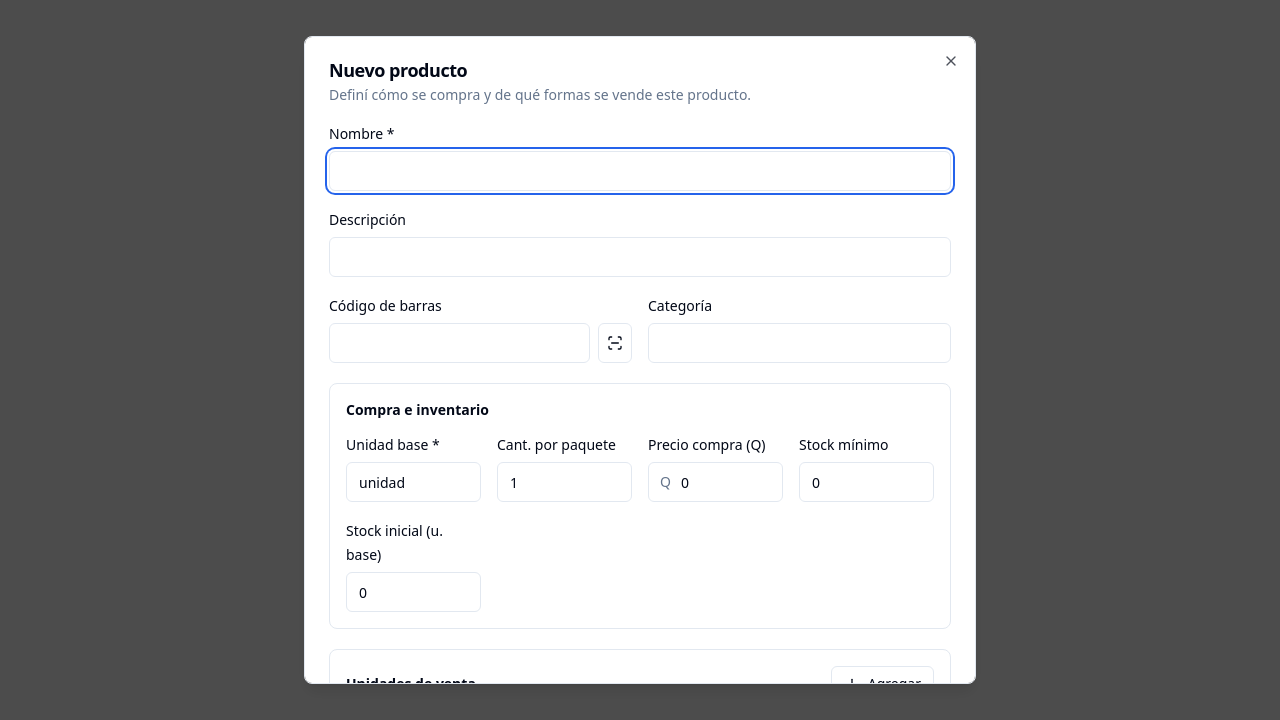
<ProductFormModal /> › BUG-035: a negative initial stock shows a message and is not saved
In the field labelled "Nombre *": (640, 171) x1=329 y1=151 x2=951 y2=191, type "Producto QA"
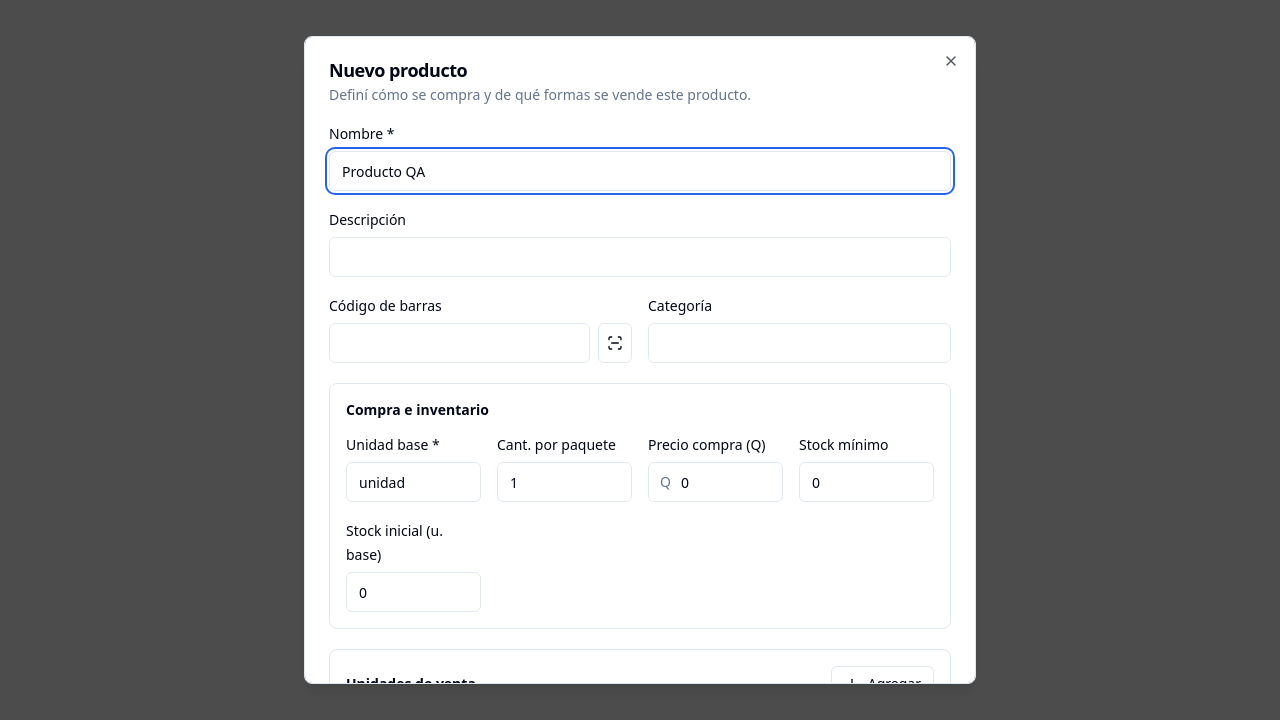
Replace the text in the number field labelled "Stock inicial (u. base)" with "-5": (414, 592) x1=346 y1=572 x2=481 y2=612
(page scrolled)
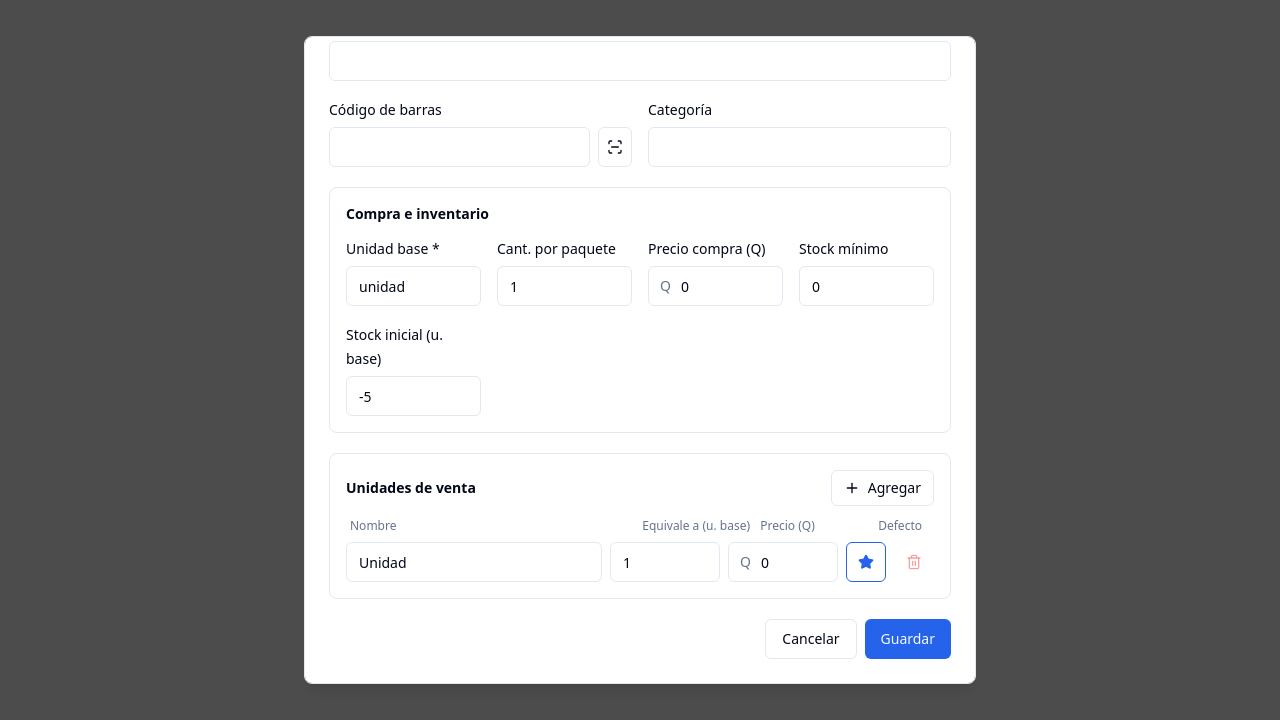
Click the button "Guardar": (908, 639) x1=864 y1=619 x2=951 y2=659
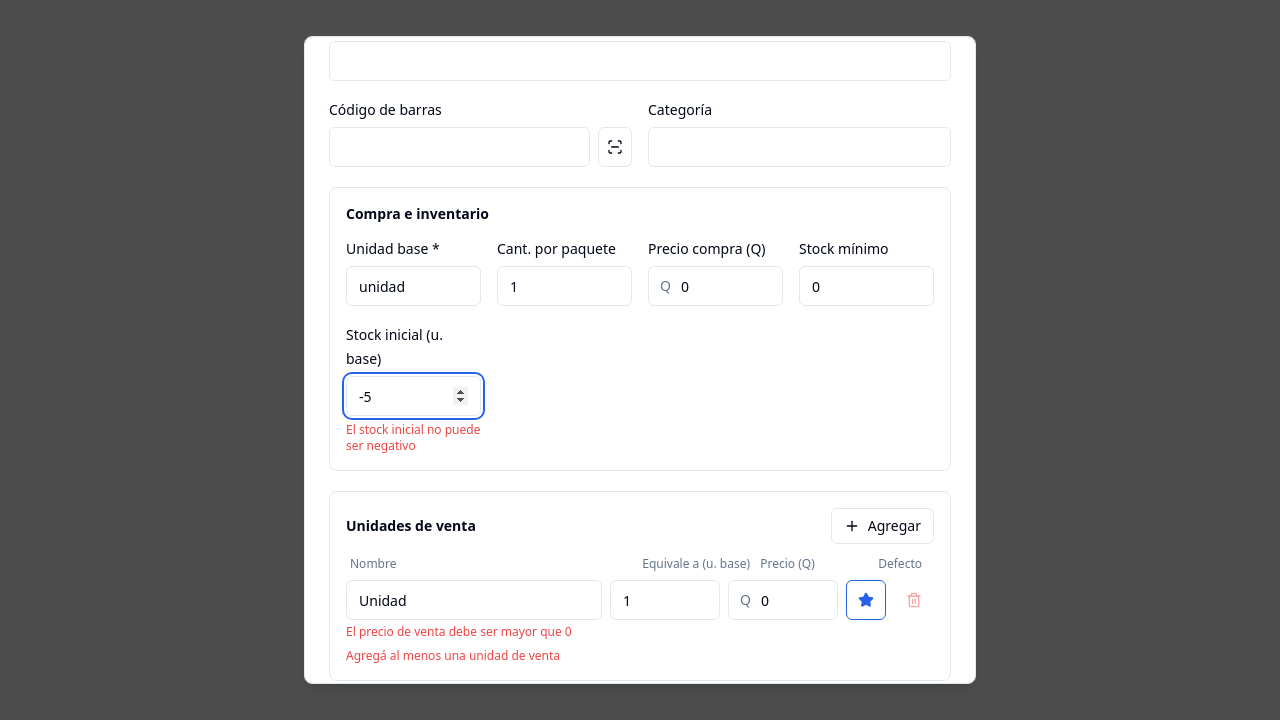
Now the text "El stock inicial no puede ser negativo" is shown, box x1=346 y1=422 x2=481 y2=454
